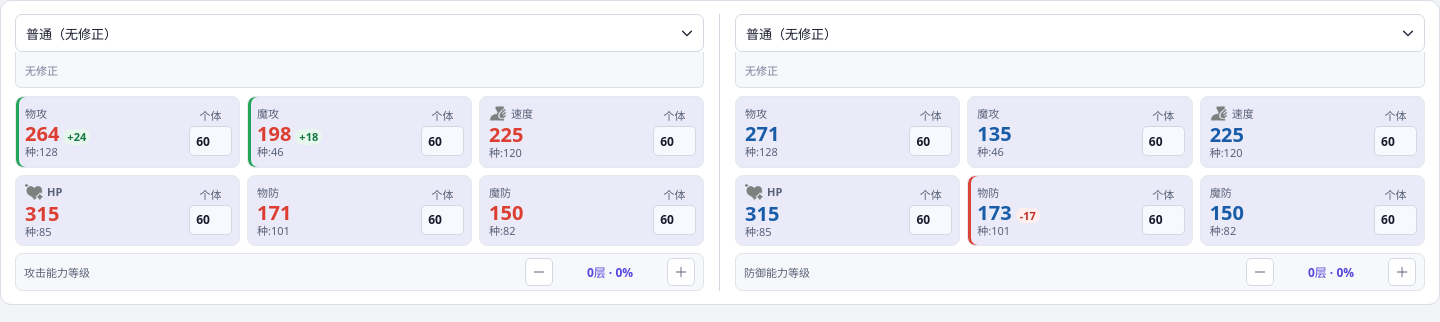
Scenario: clicking a modified stat toggles the whole side between final and base panels
Click the button with aria-label "物攻最终值264，基础值240，增加24，点击查看修改前的六维" at (58,132), box [25,105,90,159]
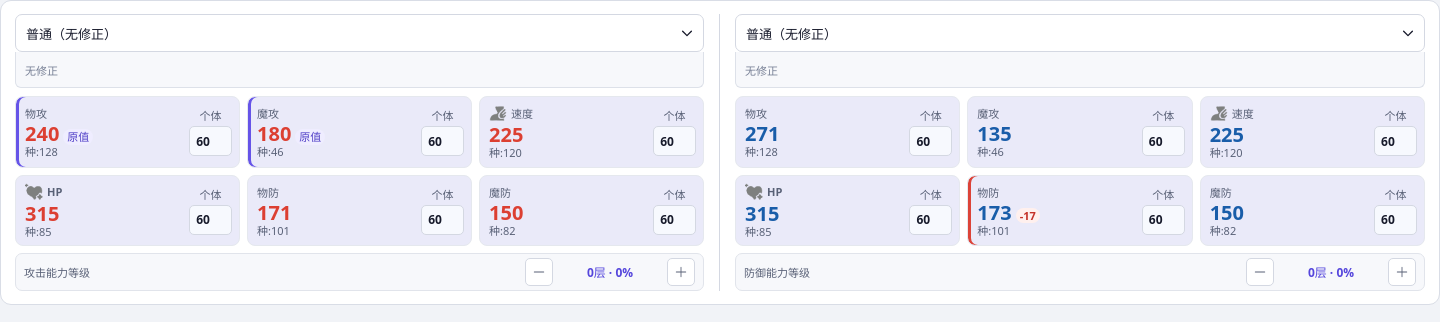
Expected: the text "原值" is shown 2 times, [63,129,93,145]; [295,129,325,145]
Expected: the text "240" is shown, [25,122,59,145]
Expected: the text "180" is shown, [257,122,291,145]
Click the button with aria-label "物攻当前显示基础值240，最终值264，点击恢复最终六维" at (59,132), box [25,105,93,159]
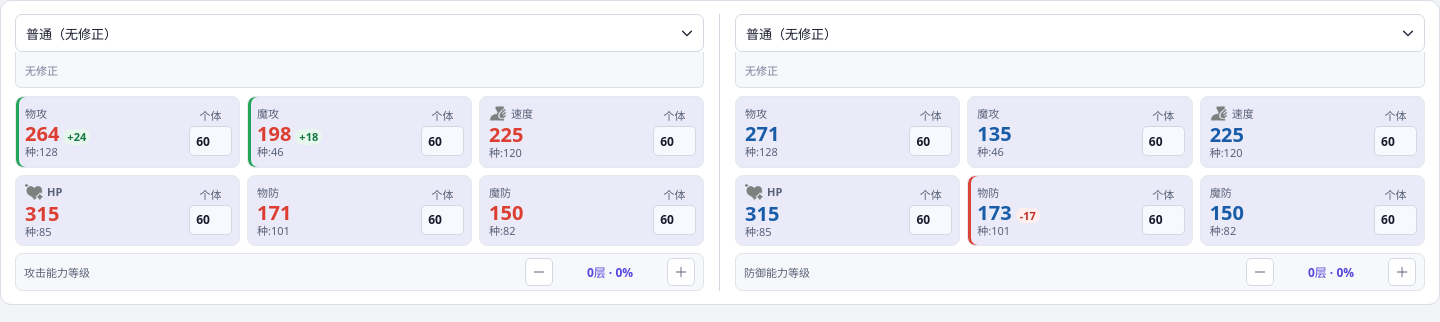
Expected: the text "264" is shown, [25,122,59,145]
Expected: the text "198" is shown, [257,122,291,145]
Expected: the button "原值" is gone
Click the button with aria-label "物防最终值173，基础值190，降低17，点击查看修改前的六维" at (1009,210), box [977,184,1040,237]
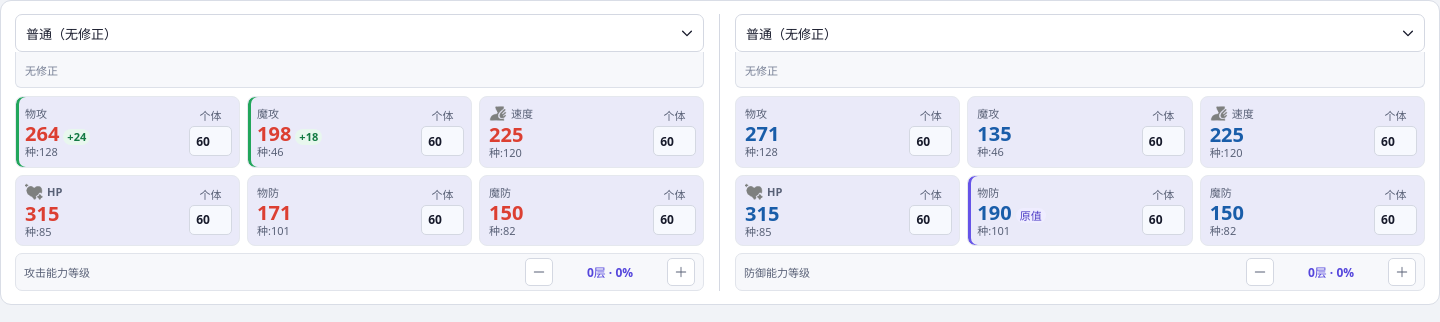
Expected: the text "264" is shown, [25,122,59,145]
Expected: the text "190" is shown, [977,201,1012,224]
Expected: the text "原值" is shown, [1016,208,1046,223]
